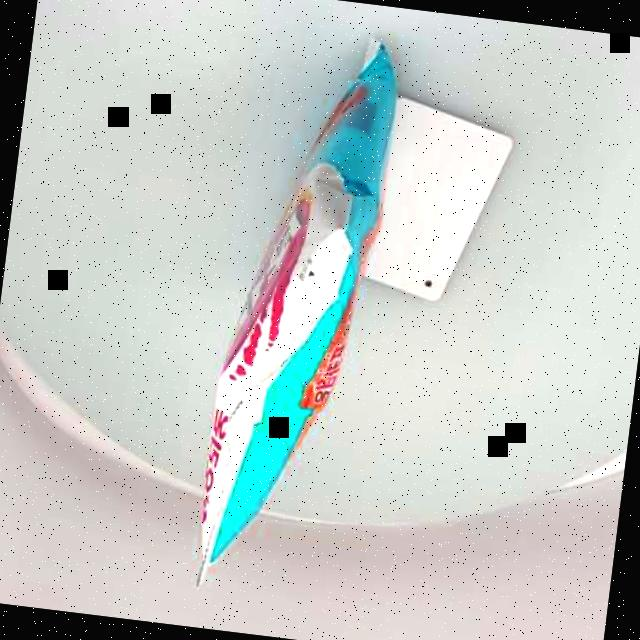snack_bag: (128, 1, 472, 628)
